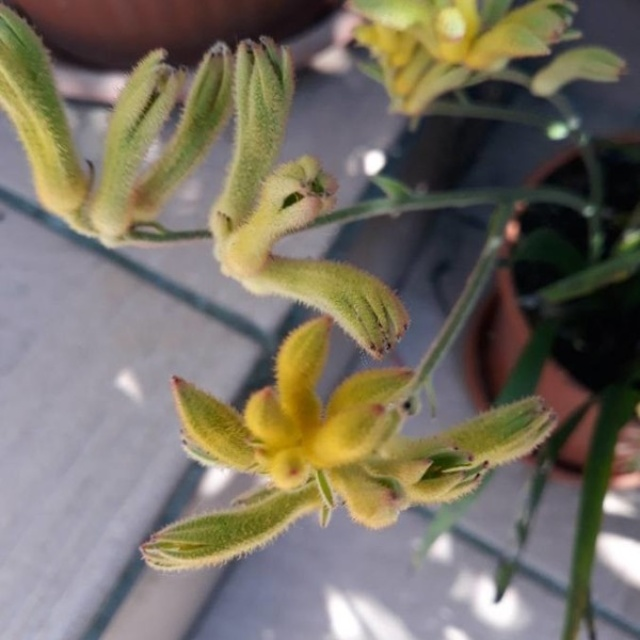obstacle: (51, 35, 614, 558)
